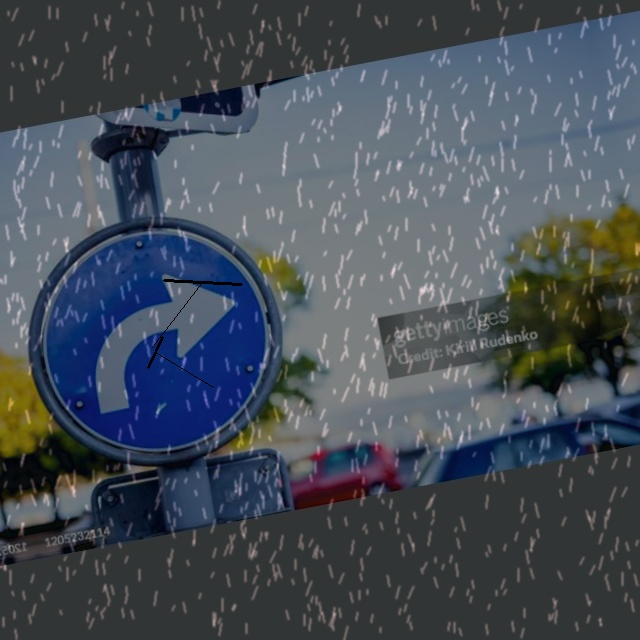Compulsory_Turn_Right_Ahead: (17, 201, 294, 477)
